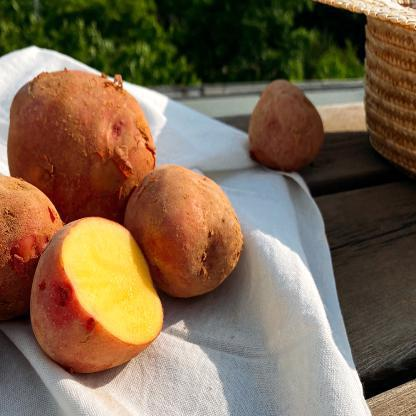potato: (2, 71, 184, 223), (16, 209, 176, 374), (127, 164, 266, 302), (246, 70, 336, 180)
